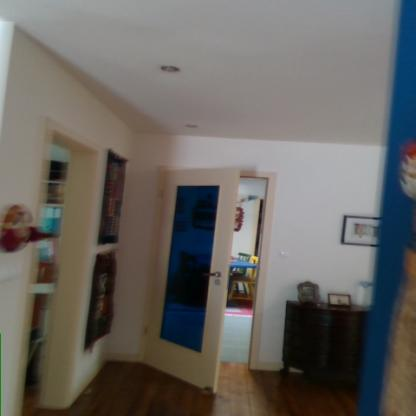semi: (145, 157, 283, 391)
